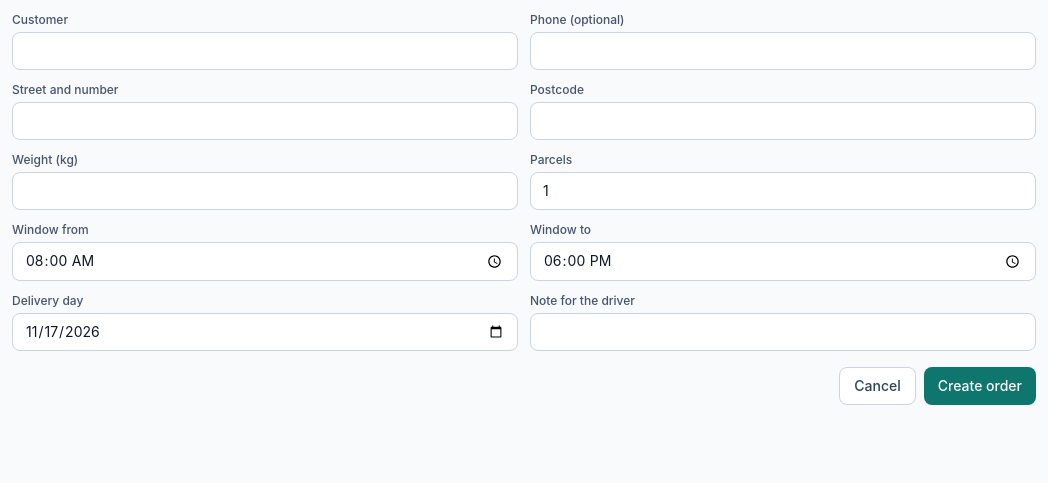
Test: validates on the client before sending anything
In the field labelled "Customer": [265, 51] box top-left (12, 32), bottom-right (518, 70), type "A"
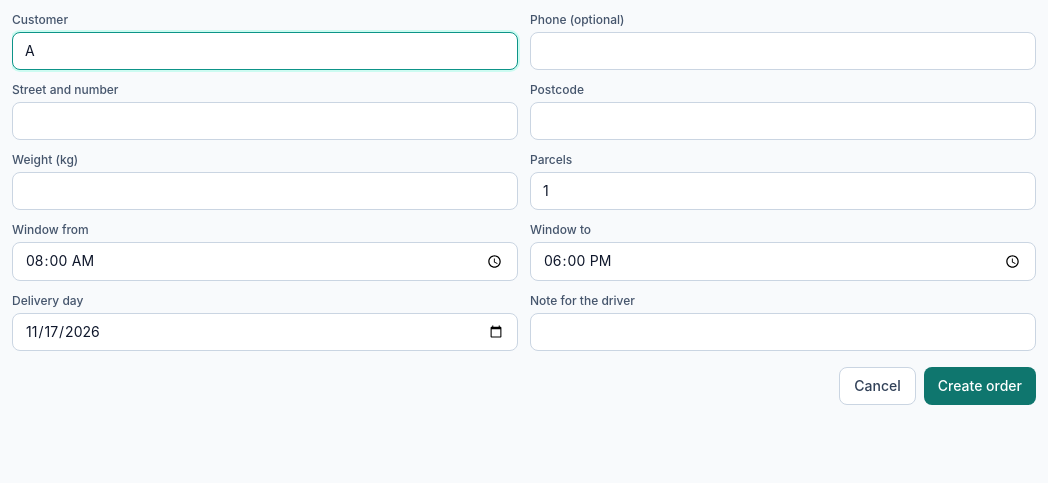
In the field labelled "Street and number": [265, 121] box top-left (12, 102), bottom-right (518, 140), type "Osterstraße 1"
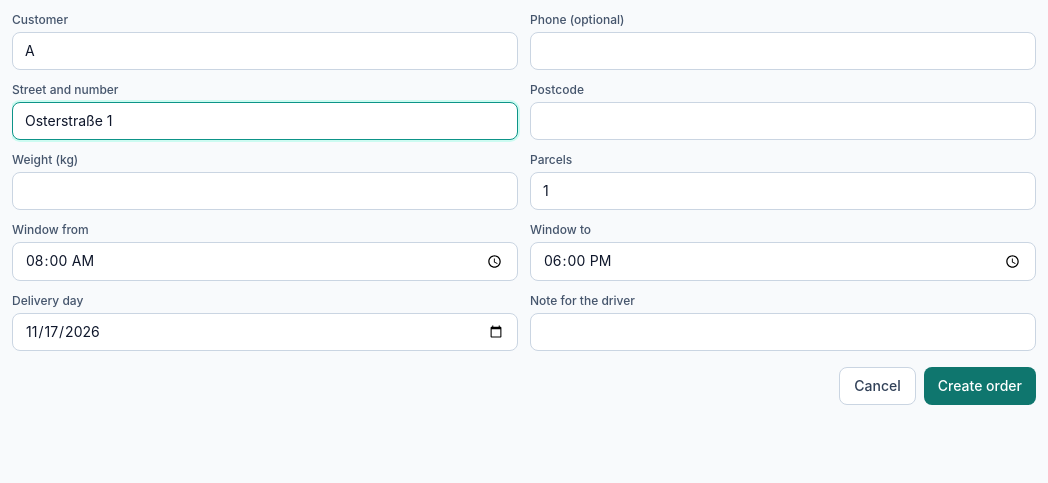
In the field labelled "Postcode": [783, 121] box top-left (530, 102), bottom-right (1036, 140), type "80331"
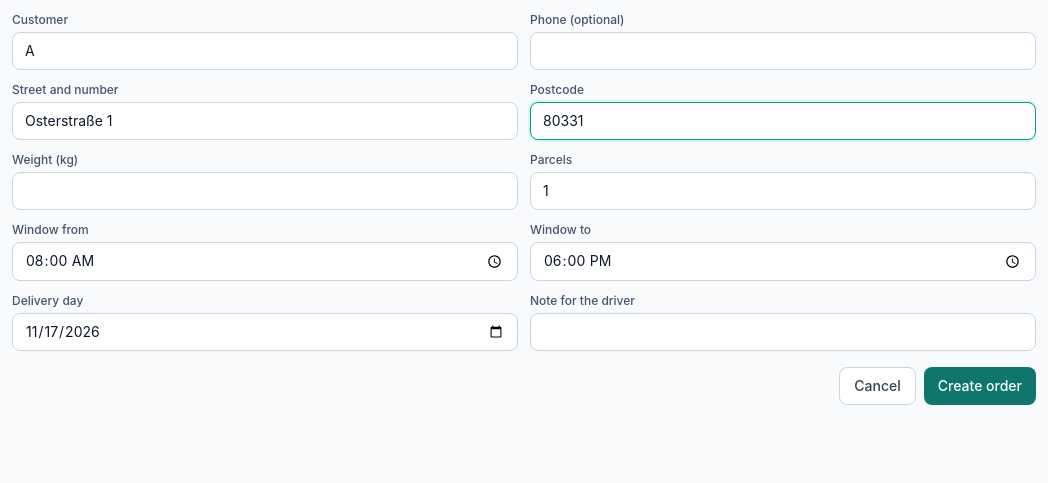
In the field labelled "Weight (kg)": [265, 191] box top-left (12, 172), bottom-right (518, 210), type "0"
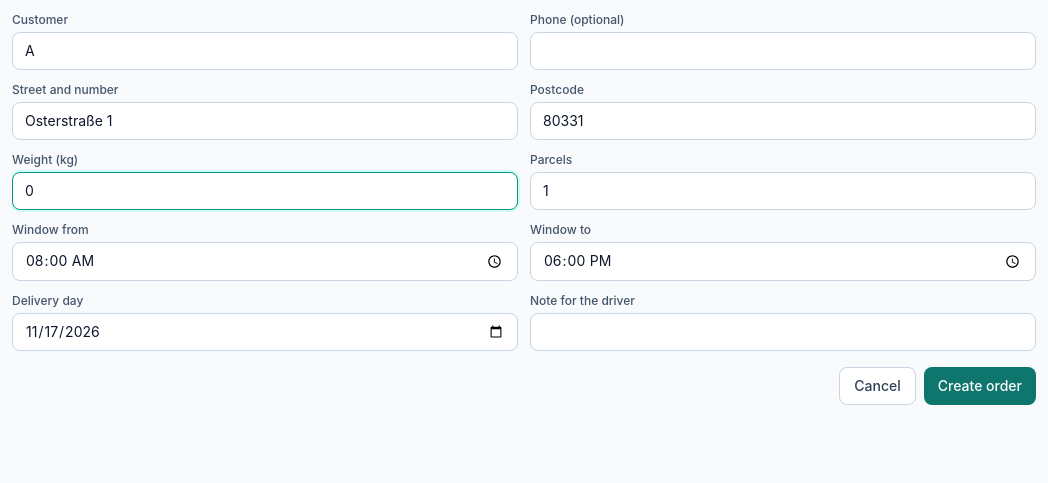
Click the button "Create order": [980, 386] box top-left (924, 367), bottom-right (1036, 405)
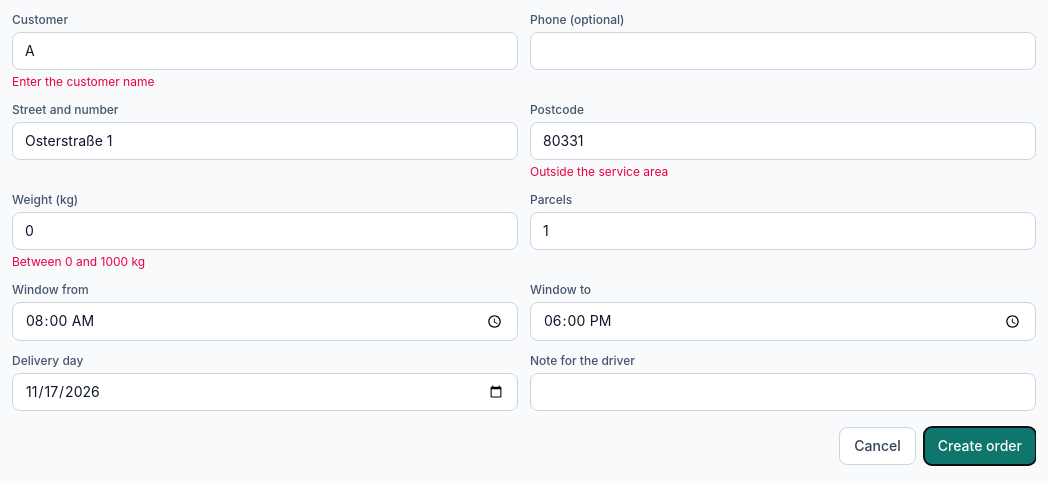
Check: the text "Enter the customer name" is shown, box top-left (12, 74), bottom-right (154, 89)
Check: the text "Outside the service area" is shown, box top-left (530, 164), bottom-right (668, 179)
Check: the text "Between 0 and 1000 kg" is shown, box top-left (12, 254), bottom-right (145, 269)
